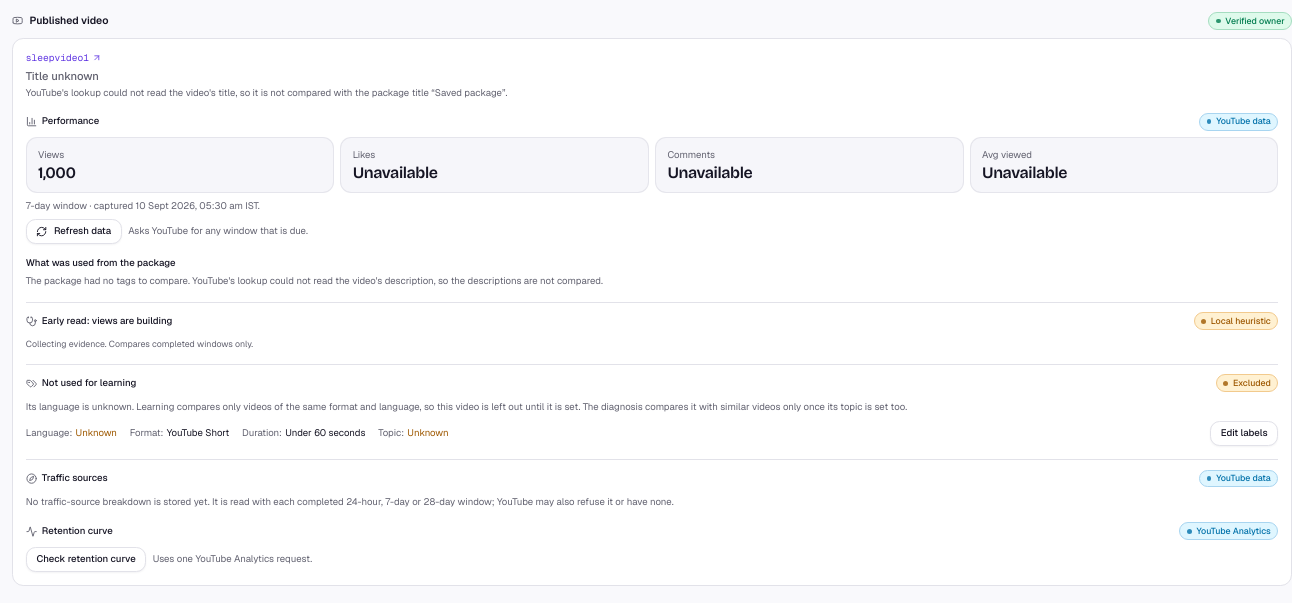
refreshing a linked video from History › refreshes with no body, once, however often the button is pressed
Later steps or results of the test are not shown.
Click the button "Refresh data".
click(74, 232)  # box [26,219,122,244]
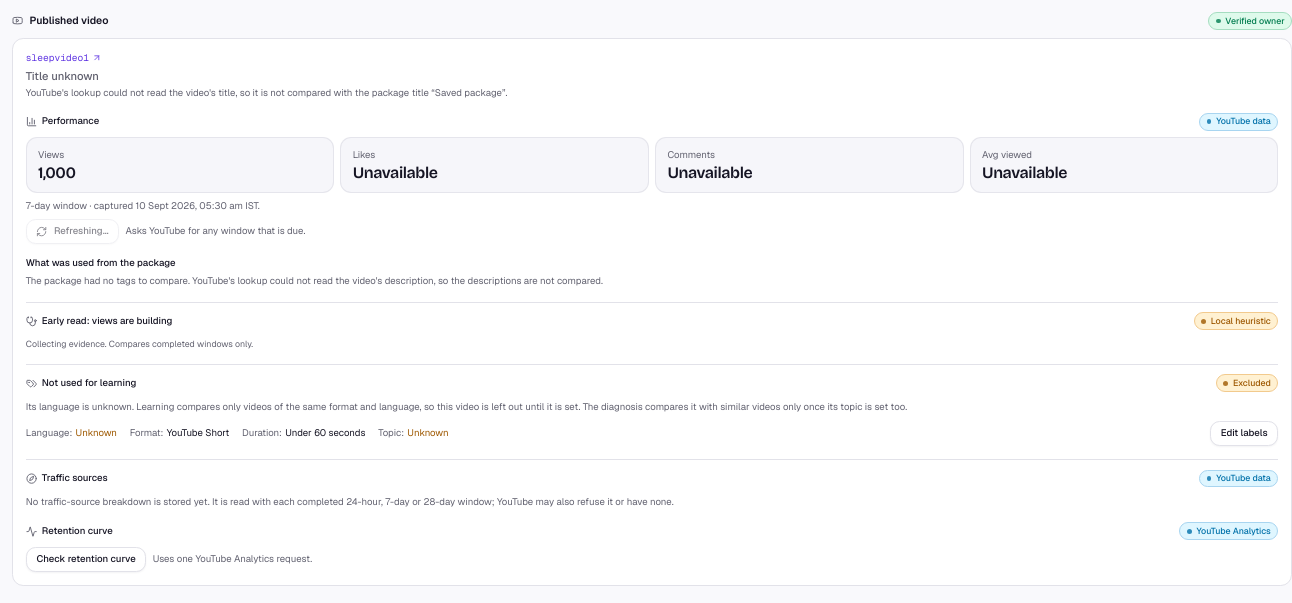
Click the button named "Refresh data".
click(72, 232)  # box [26,219,119,244]
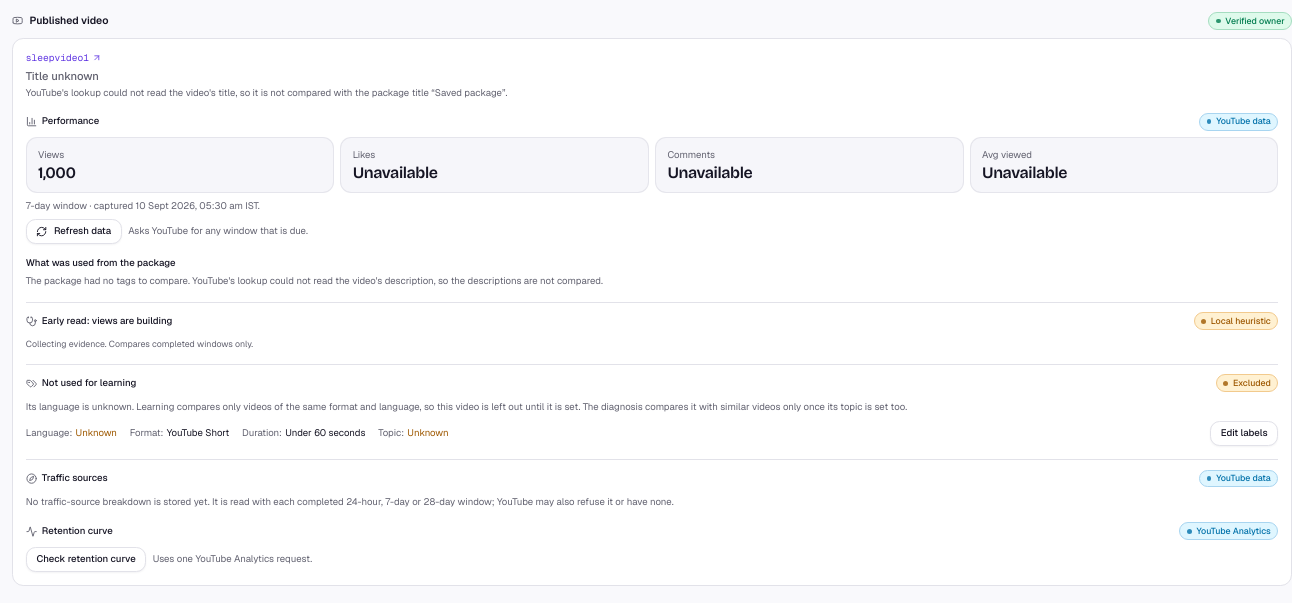
Now the button "Refresh data" is enabled, box [26,219,122,244]
